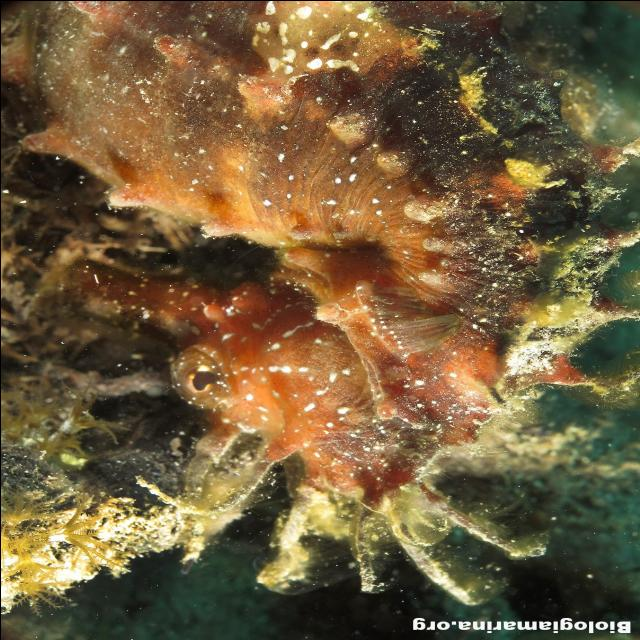Guttu: (40, 247, 486, 508)
